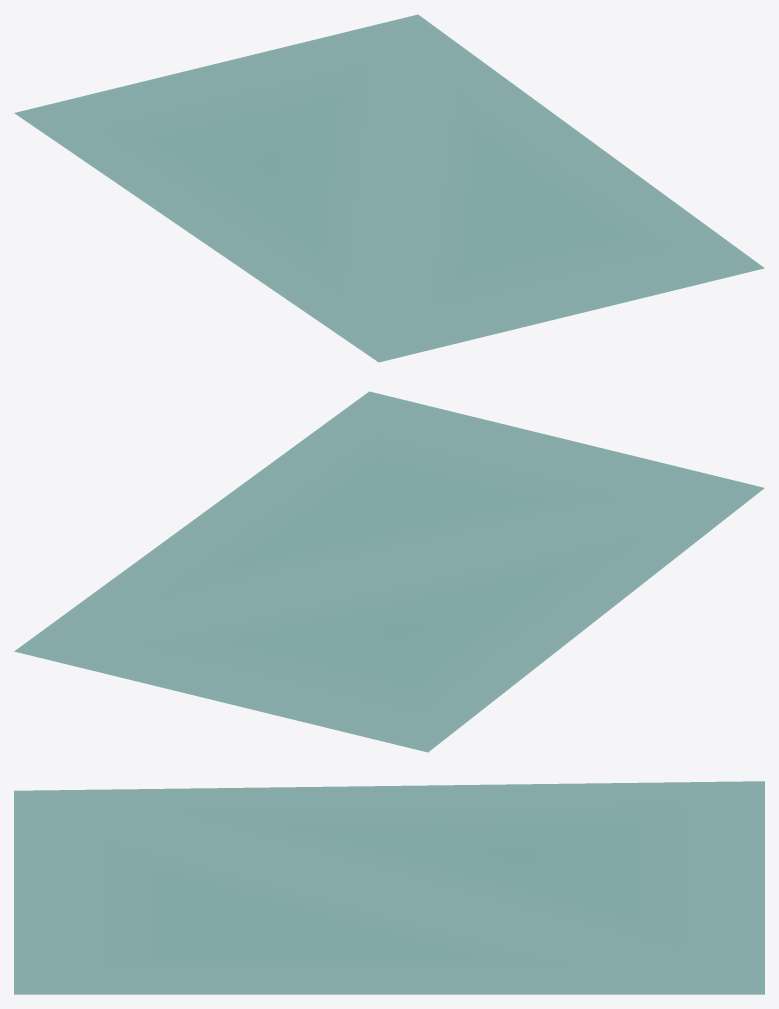
File: water-19-1.glb
The picture shows the model from 3 angles, top to bottom: view 1: azimuth 30°, elevation 25°; view 2: azimuth 150°, elevation 25°; view 3: azimuth 270°, elevation 25°; orthographic projection. The views are drawn at different scales.
Size of the model in its own units: 9.42 by 0 by 14.
